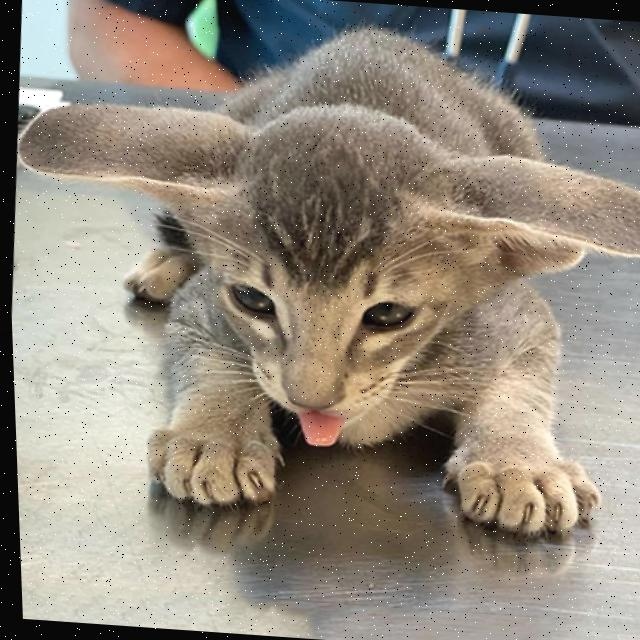Oriental: (0, 0, 640, 545)
